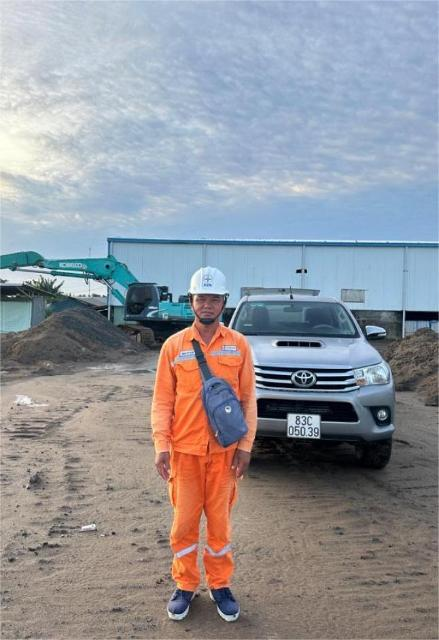helmet: (171, 257, 235, 298)
shoes: (150, 573, 196, 627), (201, 585, 246, 622)
